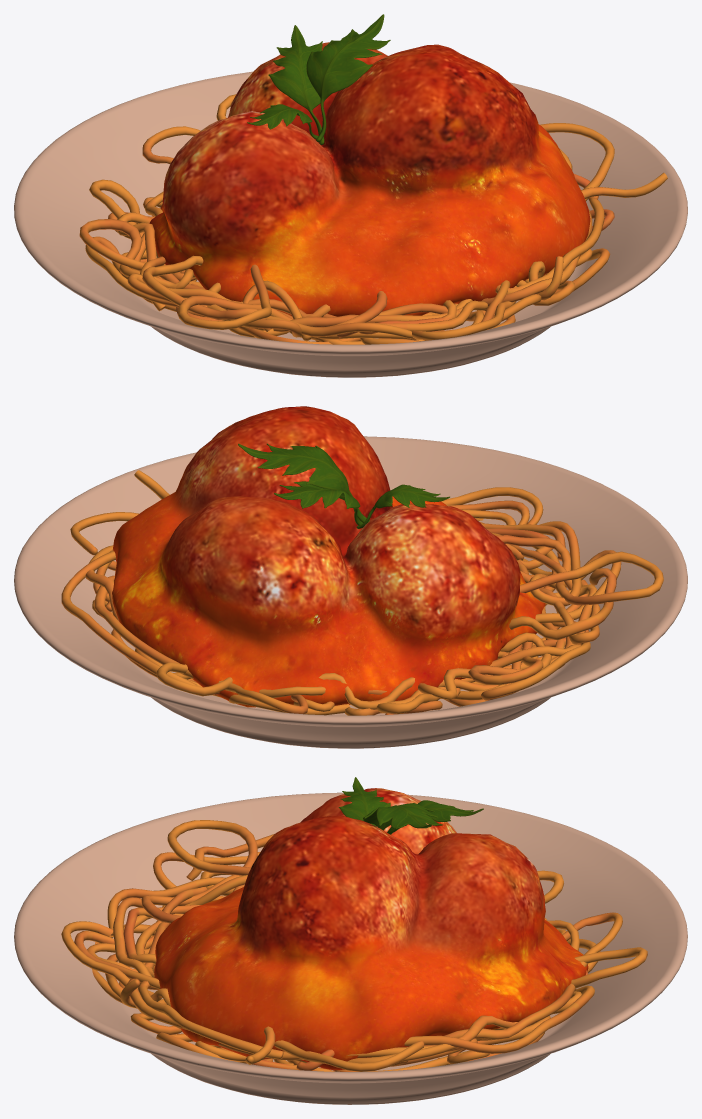
Rendered from pasta.glb.
The picture shows the model from 3 angles, top to bottom: view 1: azimuth 30°, elevation 25°; view 2: azimuth 150°, elevation 25°; view 3: azimuth 270°, elevation 25°; orthographic projection.
Visible parts, largest first — view 1: pasta.1_1; view 2: pasta.1_1; view 3: pasta.1_1.
Boxes of the visible parts, left/top/right/bottom form: pasta.1_1: left=14, top=14, right=687, bottom=377; pasta.1_1: left=14, top=406, right=687, bottom=748; pasta.1_1: left=14, top=777, right=687, bottom=1104.
Bounding box in the file's own units: 0.3256 × 0.1187 × 0.3256.
1 material, 1 textured.
